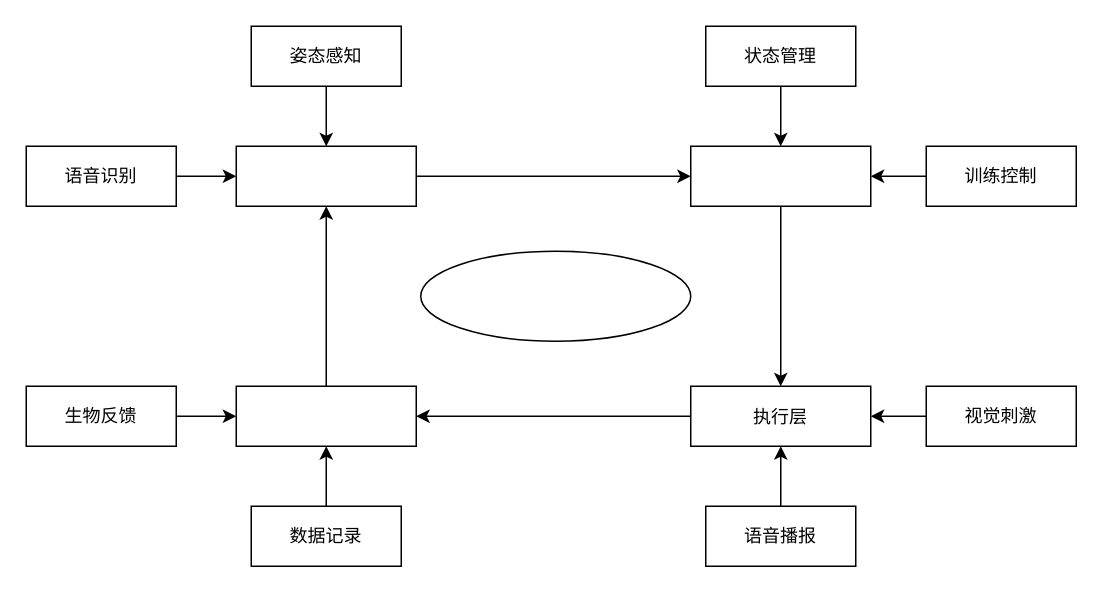
Some shapes in this 1103 by 593 pixel diagram are drawn without their labels. The box of each missing label's shape, as (x1, y1, x2, y2) in pixels:
决策层: (689, 145, 871, 206)
功能模块划分: (419, 250, 691, 341)
反馈层: (235, 385, 416, 446)
感知层: (235, 145, 416, 206)
